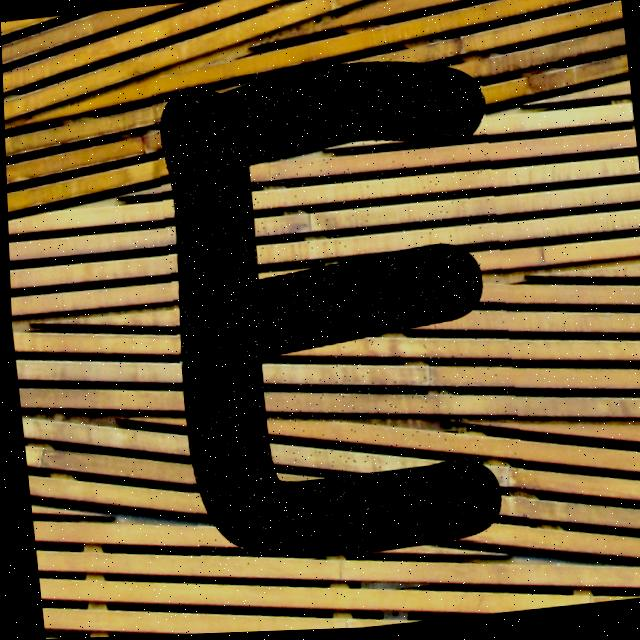E: (160, 65, 497, 559)
